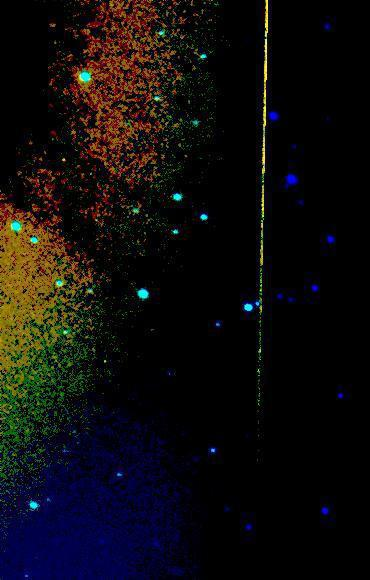star: (49, 144, 79, 174)
